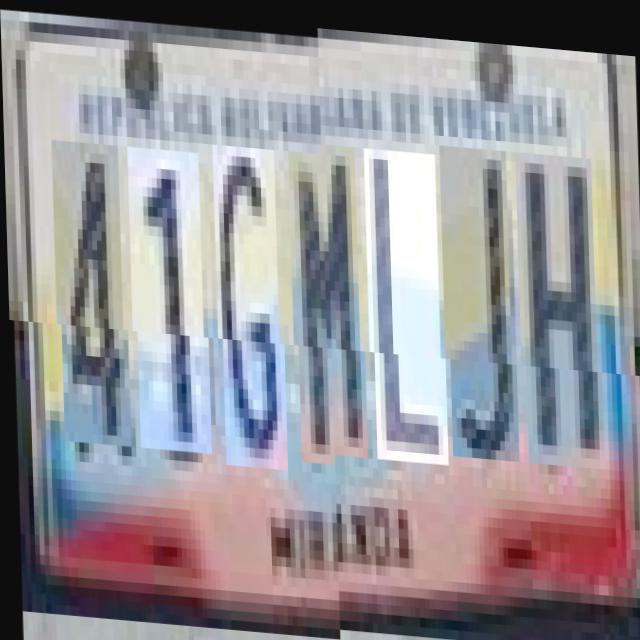1: (131, 145, 209, 450)
4: (55, 140, 128, 444)
G: (216, 141, 285, 465)
H: (520, 152, 602, 468)
J: (443, 147, 518, 462)
L: (368, 152, 446, 466)
M: (292, 146, 366, 461)
